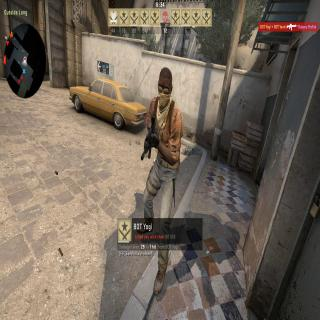T-Body: (136, 66, 182, 297)
T-Head: (158, 67, 173, 109)
